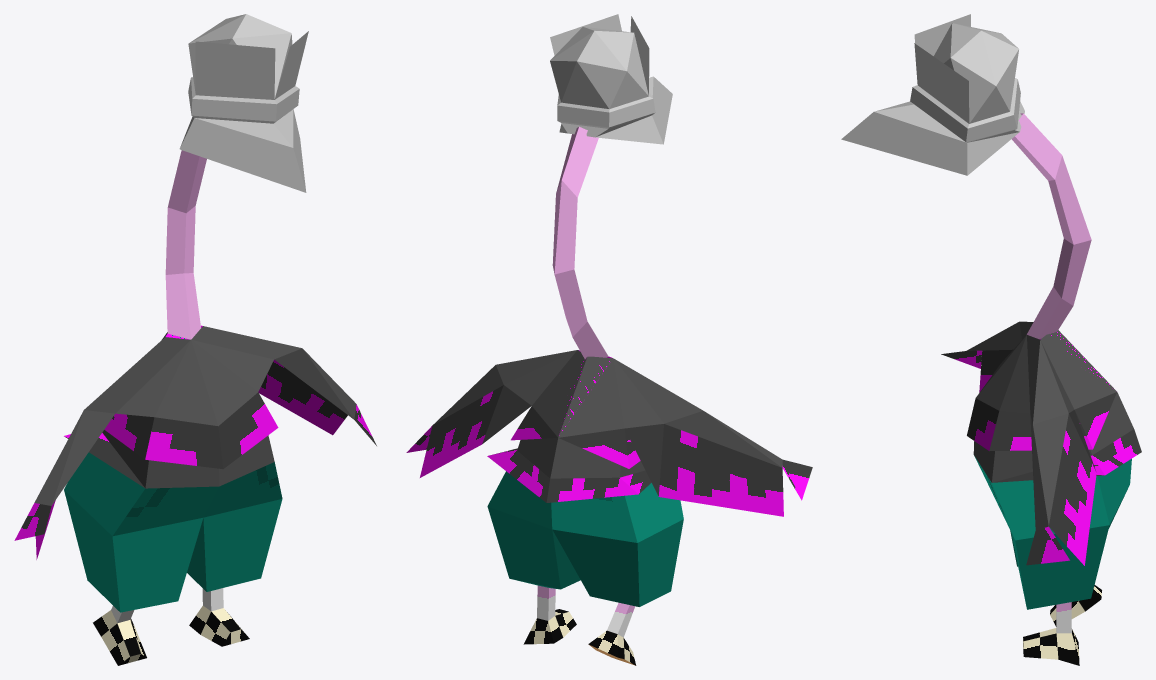
File: ost17.obj
The picture shows the model from 3 angles, left to right: view 1: azimuth 30°, elevation 25°; view 2: azimuth 150°, elevation 25°; view 3: azimuth 270°, elevation 25°; orthographic projection. The views are drawn at different scales.
Visible parts, largest first — view 1: Cube, Icosphere; view 2: Cube, Icosphere; view 3: Cube, Icosphere.
Boxes of the visible parts, x1,y1,x2,y2 form: Cube: (14, 150, 376, 665); Icosphere: (179, 14, 308, 192); Cube: (406, 126, 812, 665); Icosphere: (550, 14, 672, 144); Cube: (941, 113, 1141, 665); Icosphere: (841, 14, 1024, 175).
Bounding box in the file's own units: 10.15 × 16.16 × 7.04.
